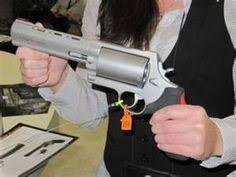Gun: (38, 29, 166, 93)
